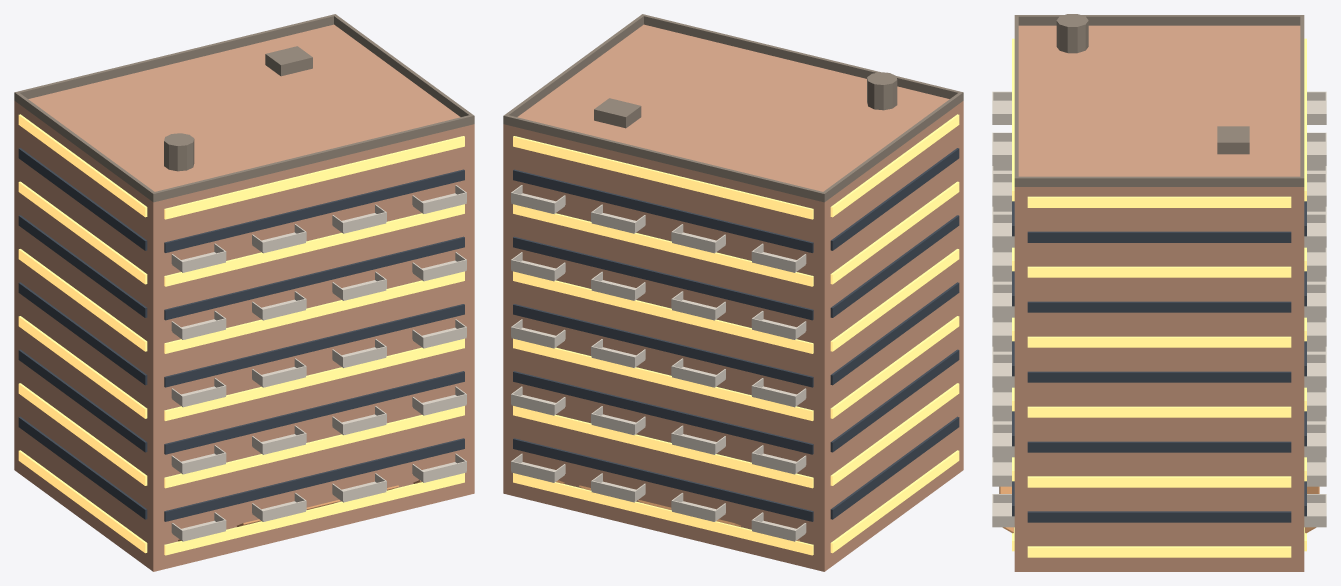
Rendered from buildinga.glb.
3 renders of one model, left to right at view 1: azimuth 30°, elevation 25°; view 2: azimuth 150°, elevation 25°; view 3: azimuth 270°, elevation 25°, orthographic. The views are drawn at different scales.
Parts seen in each view (by area): view 1: Walls, WindowsLit, WindowsDark, Balconies, Roof; view 2: Walls, WindowsLit, WindowsDark, Balconies, Roof; view 3: Walls, WindowsLit, Balconies, WindowsDark, Roof.
Boxes of the visible parts, <box> form: Walls: <box>14,24,474,571</box>; WindowsLit: <box>18,114,464,555</box>; WindowsDark: <box>18,148,464,521</box>; Balconies: <box>171,185,466,541</box>; Roof: <box>14,14,474,202</box>; Walls: <box>503,24,963,571</box>; WindowsLit: <box>513,114,959,555</box>; WindowsDark: <box>513,148,959,521</box>; Balconies: <box>511,185,806,541</box>; Roof: <box>503,14,963,202</box>; Walls: <box>1014,25,1304,571</box>; WindowsLit: <box>1012,38,1306,557</box>; Balconies: <box>992,91,1326,527</box>; WindowsDark: <box>1012,201,1306,522</box>; Roof: <box>1014,14,1304,186</box>.
Size of the model in its own units: 122 by 142 by 104.
